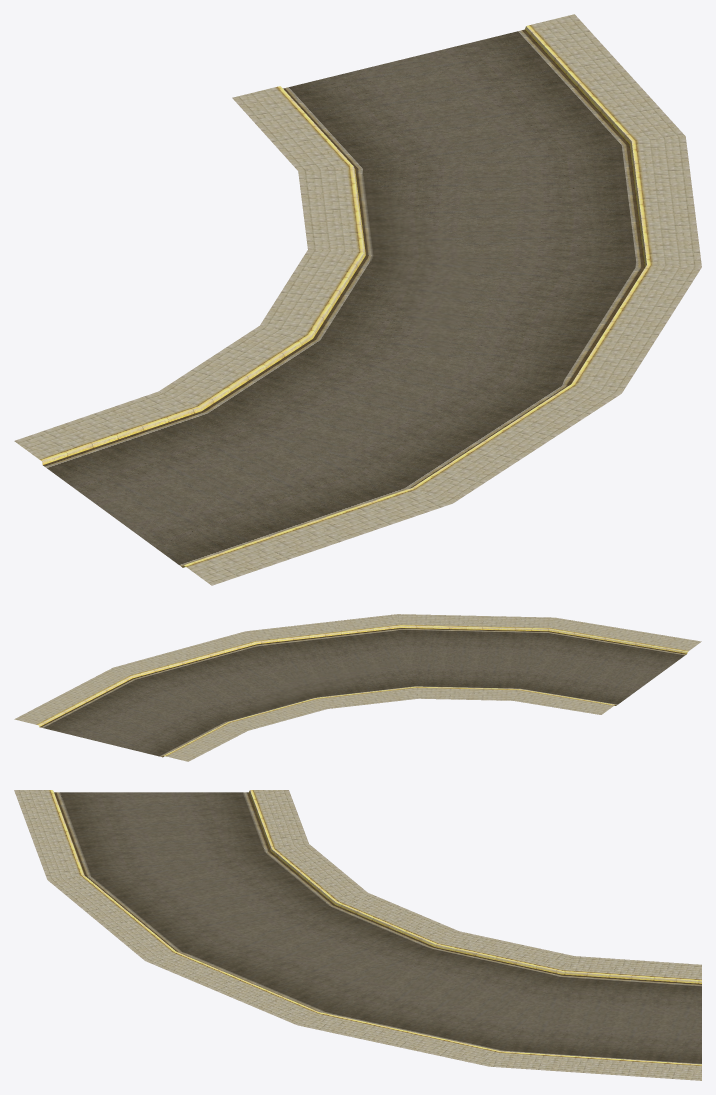
The model's file is Road3_Turn_Large_B.fbx.
3 views of the same model, one above another, from view 1: azimuth 30°, elevation 25°; view 2: azimuth 150°, elevation 25°; view 3: azimuth 270°, elevation 25° (orthographic). The views are drawn at different scales.
Parts seen in each view (by area): view 1: Road_Turn_Large_B; view 2: Road_Turn_Large_B; view 3: Road_Turn_Large_B.
Boxes of the visible parts, x1,y1,x2,y2 form: Road_Turn_Large_B: [14, 14, 701, 585]; Road_Turn_Large_B: [14, 614, 701, 761]; Road_Turn_Large_B: [14, 790, 701, 1080].
Size of the model in its own units: 5646 by 20.69 by 5643.
